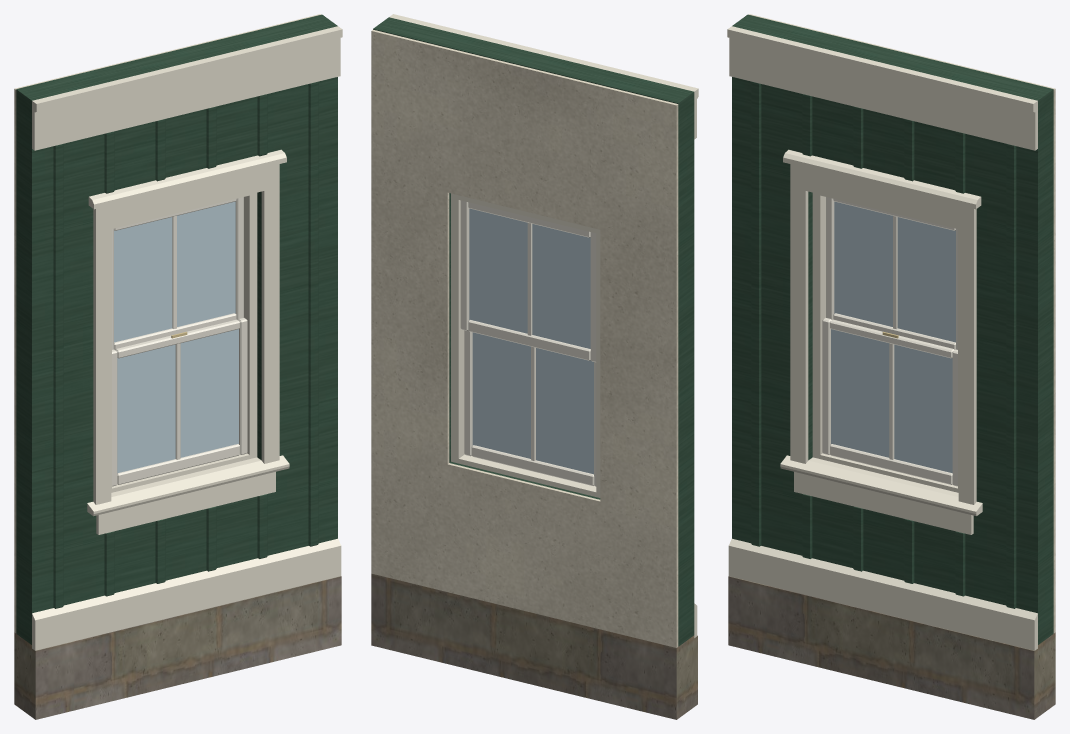
The model's file is w_vwin.glb.
3 renders of one model, left to right at view 1: azimuth 30°, elevation 25°; view 2: azimuth 150°, elevation 25°; view 3: azimuth 330°, elevation 25°, orthographic.
Parts seen in each view (by area): view 1: w_vwin_boards, w_vwin_trim, w_vwin_glass, w_vwin_stone, w_vwin_sash, w_vwin_frame, w_vwin_plaster; view 2: w_vwin_plaster, w_vwin_glass, w_vwin_stone, w_vwin_boards, w_vwin_sash, w_vwin_frame, w_vwin_trim; view 3: w_vwin_boards, w_vwin_trim, w_vwin_glass, w_vwin_stone, w_vwin_sash, w_vwin_frame, w_vwin_plaster.
Boxes of the visible parts, <box> form: w_vwin_boards: <box>16,14,337,644</box>; w_vwin_trim: <box>32,26,342,650</box>; w_vwin_glass: <box>114,201,238,473</box>; w_vwin_stone: <box>14,576,341,719</box>; w_vwin_sash: <box>112,197,247,486</box>; w_vwin_frame: <box>111,192,257,492</box>; w_vwin_plaster: <box>14,14,320,633</box>; w_vwin_plaster: <box>371,29,678,647</box>; w_vwin_glass: <box>469,208,593,474</box>; w_vwin_stone: <box>371,573,697,719</box>; w_vwin_boards: <box>373,17,694,646</box>; w_vwin_sash: <box>460,200,596,486</box>; w_vwin_frame: <box>451,193,600,497</box>; w_vwin_trim: <box>389,14,698,637</box>; w_vwin_boards: <box>732,14,1053,644</box>; w_vwin_trim: <box>727,26,1037,650</box>; w_vwin_glass: <box>831,201,955,473</box>; w_vwin_stone: <box>728,576,1055,719</box>; w_vwin_sash: <box>822,197,957,486</box>; w_vwin_frame: <box>812,192,958,492</box>; w_vwin_plaster: <box>749,14,1055,633</box>.
Bounding box in the file's own units: 2 × 3.85 × 0.275.
8 materials, 3 textured.
